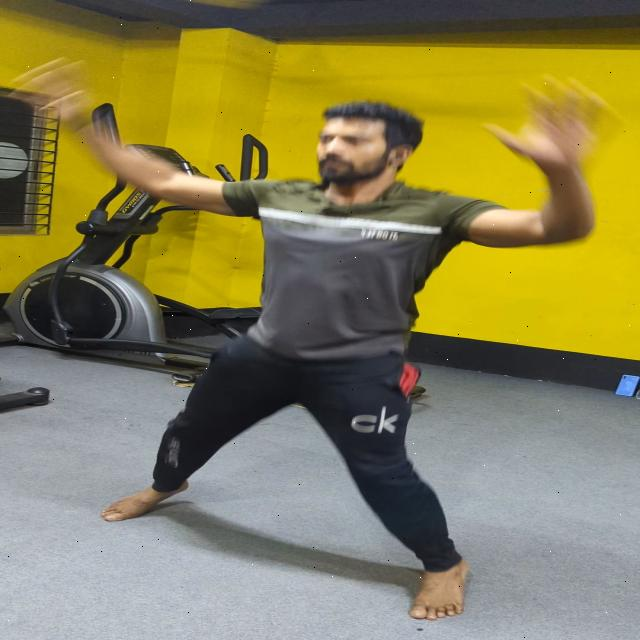Normal_JumpingJacks: (19, 33, 640, 639)
